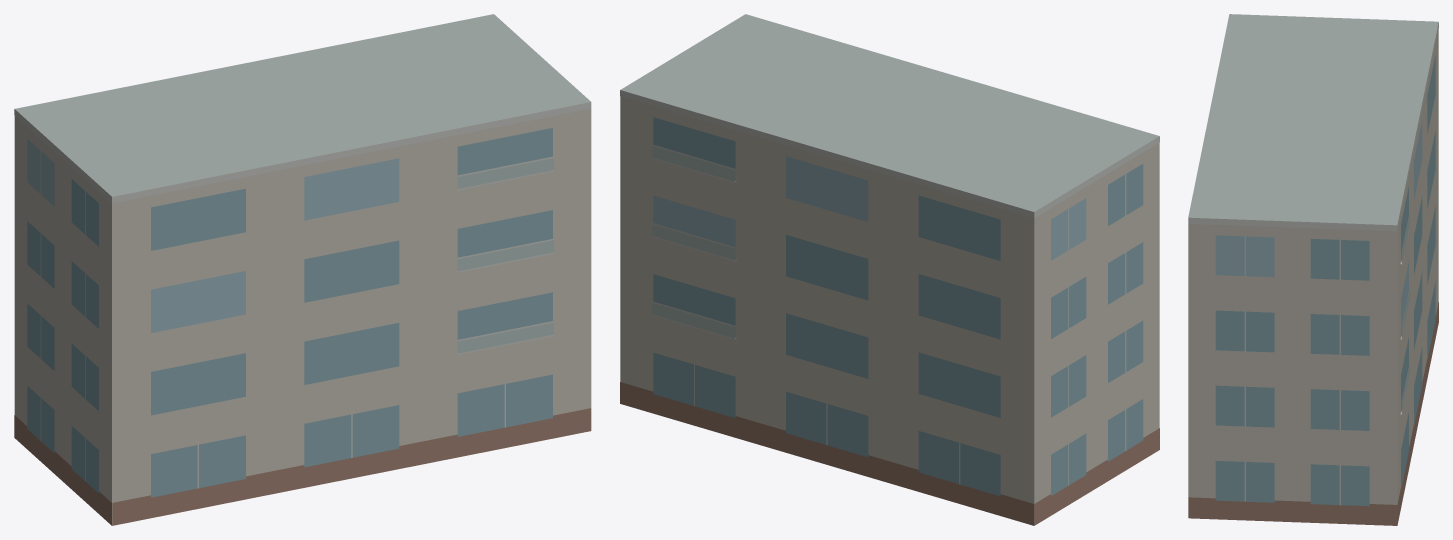
Rendered from residential-f640f65d-251a-42ea-819a-267813652719.glb.
The picture shows the model from 3 angles, left to right: view 1: azimuth 30°, elevation 25°; view 2: azimuth 150°, elevation 25°; view 3: azimuth 270°, elevation 25°; orthographic projection. The views are drawn at different scales.
Visible parts, largest first — view 1: residential-f640f65d-251a-42ea-819a-267813652719.tmp; view 2: residential-f640f65d-251a-42ea-819a-267813652719.tmp; view 3: residential-f640f65d-251a-42ea-819a-267813652719.tmp.
Part boxes in pixels (<box>): residential-f640f65d-251a-42ea-819a-267813652719.tmp: <box>14,14,591,525</box>; residential-f640f65d-251a-42ea-819a-267813652719.tmp: <box>620,14,1159,525</box>; residential-f640f65d-251a-42ea-819a-267813652719.tmp: <box>1188,14,1438,525</box>.
Size of the model in its own units: 18.4 by 12.2 by 9.23.
